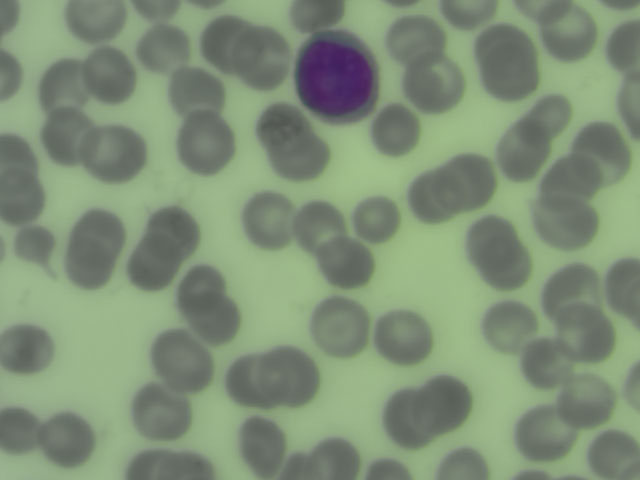RBC: (552, 375, 615, 432), (481, 32, 536, 95), (237, 28, 289, 93), (166, 63, 225, 115), (443, 153, 495, 209), (126, 444, 201, 480), (349, 197, 404, 246), (60, 241, 115, 290), (90, 129, 145, 178), (40, 111, 95, 160), (38, 60, 93, 109), (87, 51, 142, 100), (479, 240, 534, 289), (236, 418, 291, 467), (223, 358, 278, 407), (267, 350, 322, 399), (134, 385, 189, 434), (153, 335, 208, 384), (190, 297, 245, 346), (169, 263, 224, 312), (125, 241, 180, 290), (147, 204, 202, 253), (38, 415, 93, 464), (6, 223, 61, 272), (497, 127, 552, 176), (540, 9, 595, 58), (405, 59, 460, 108), (392, 14, 447, 63), (369, 106, 424, 155), (270, 129, 325, 178), (253, 100, 308, 149), (200, 15, 255, 64), (176, 119, 231, 168), (136, 23, 191, 72), (562, 311, 617, 360), (544, 268, 599, 317), (539, 203, 594, 252), (544, 155, 599, 204), (578, 125, 633, 174), (522, 89, 577, 138), (518, 408, 573, 457), (520, 339, 575, 388), (480, 301, 535, 350), (405, 174, 460, 223), (321, 239, 376, 288), (287, 196, 342, 245), (240, 192, 295, 241), (313, 303, 368, 352), (377, 314, 432, 363), (381, 389, 436, 438), (419, 377, 474, 426), (585, 431, 640, 480), (1, 400, 43, 464), (1, 326, 55, 375), (303, 431, 358, 479), (67, 211, 124, 254), (1, 170, 40, 232), (605, 252, 640, 321), (604, 19, 640, 85), (1, 133, 40, 192), (433, 443, 494, 480), (70, 1, 125, 37), (471, 218, 516, 259), (441, 1, 508, 27), (290, 1, 351, 26), (1, 48, 26, 105), (131, 1, 189, 21), (513, 1, 577, 16)
WBC: (293, 31, 384, 125)
